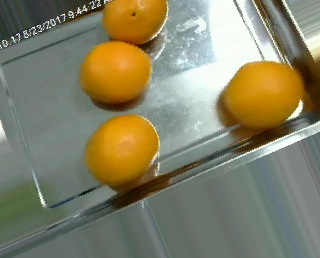Orange: (223, 59, 305, 130), (83, 113, 160, 184), (78, 40, 152, 104), (100, 0, 167, 45)
